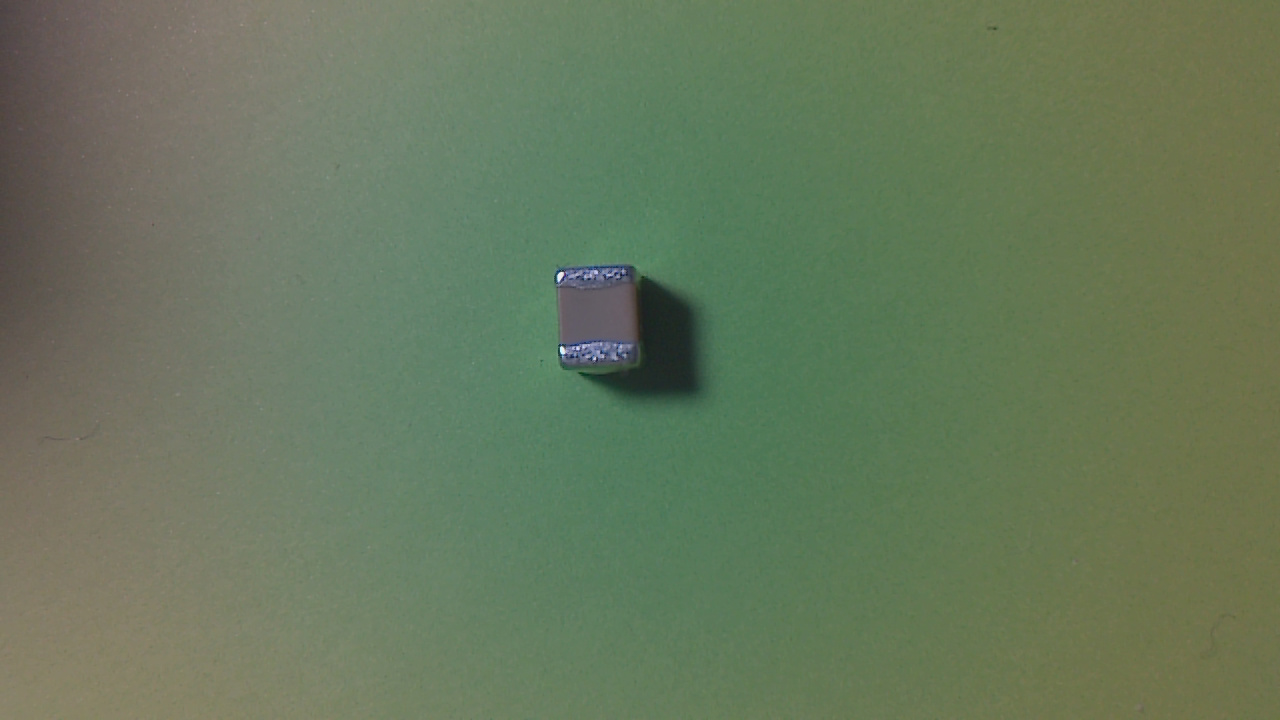Condensator: (555, 266, 656, 382)
